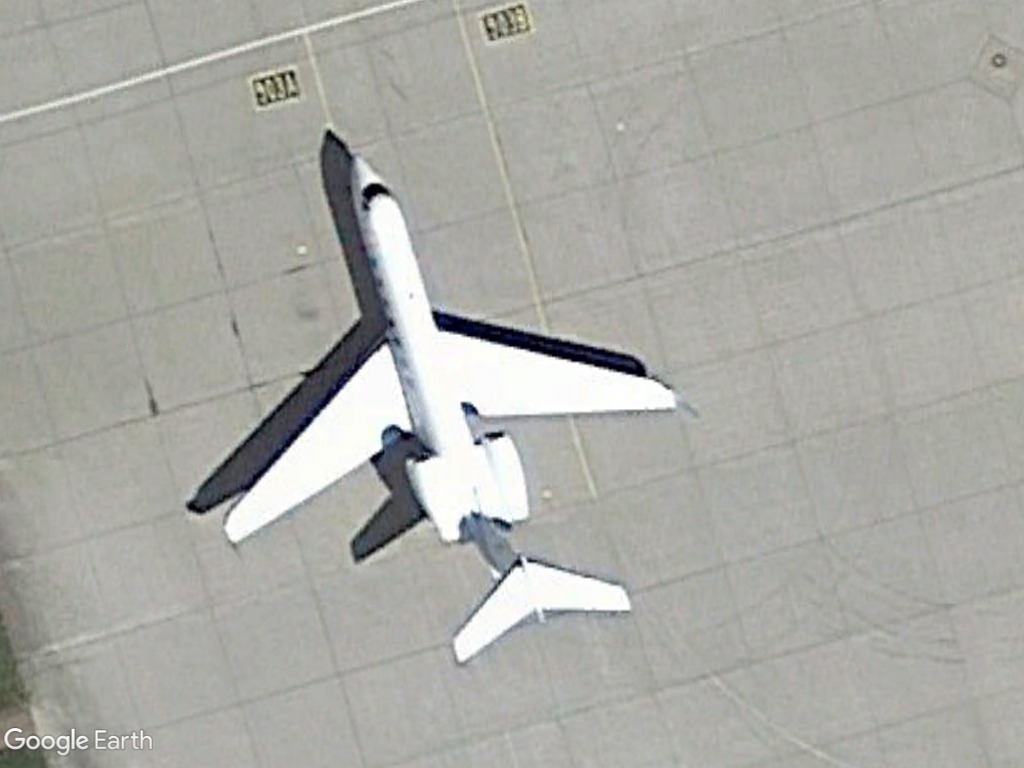chartered: (198, 141, 687, 673)
